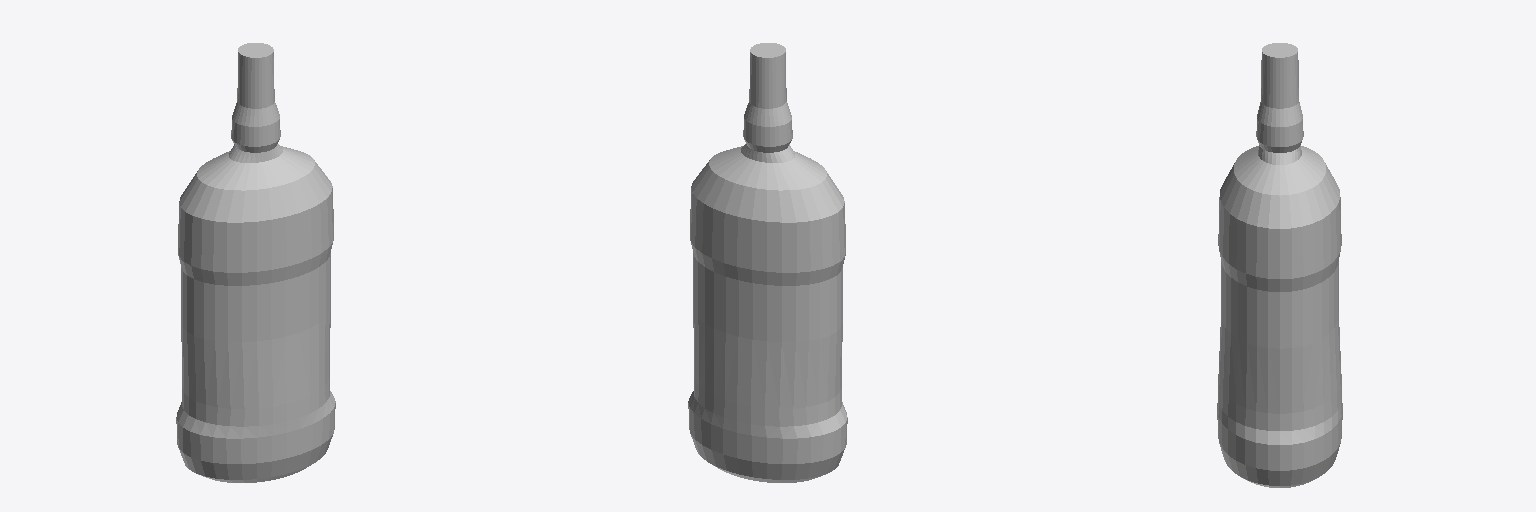
Rendered from Alkohol2.obj.
The picture shows the model from 3 angles: view 1: azimuth 30°, elevation 25°; view 2: azimuth 150°, elevation 25°; view 3: azimuth 270°, elevation 25°; orthographic projection.
Parts seen in each view (by area): view 1: Cylinder; view 2: Cylinder; view 3: Cylinder.
Boxes of the visible parts, <box> form: Cylinder: <box>176,43,335,482</box>; Cylinder: <box>688,43,847,482</box>; Cylinder: <box>1217,43,1342,487</box>.
Size of the model in its own units: 0.5229 by 1.4 by 0.3878.